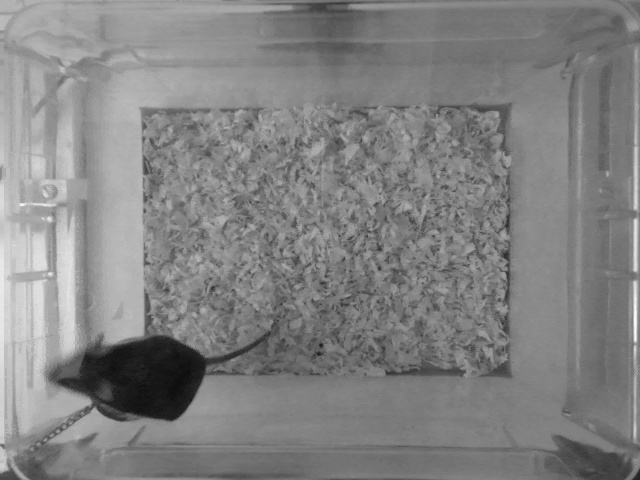mice: (42, 318, 286, 423)
